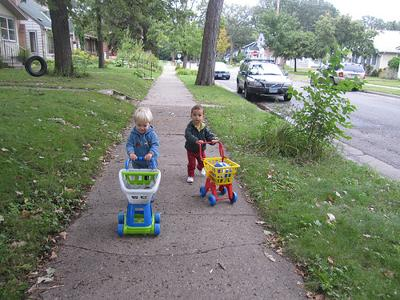person: (186, 106, 219, 184)
